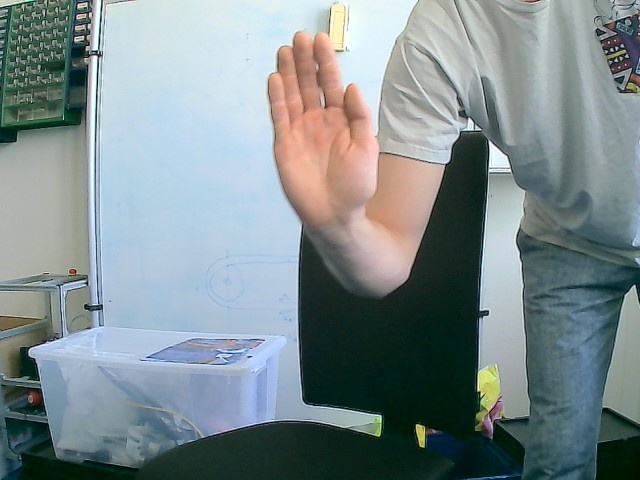stop: (266, 29, 380, 229)
